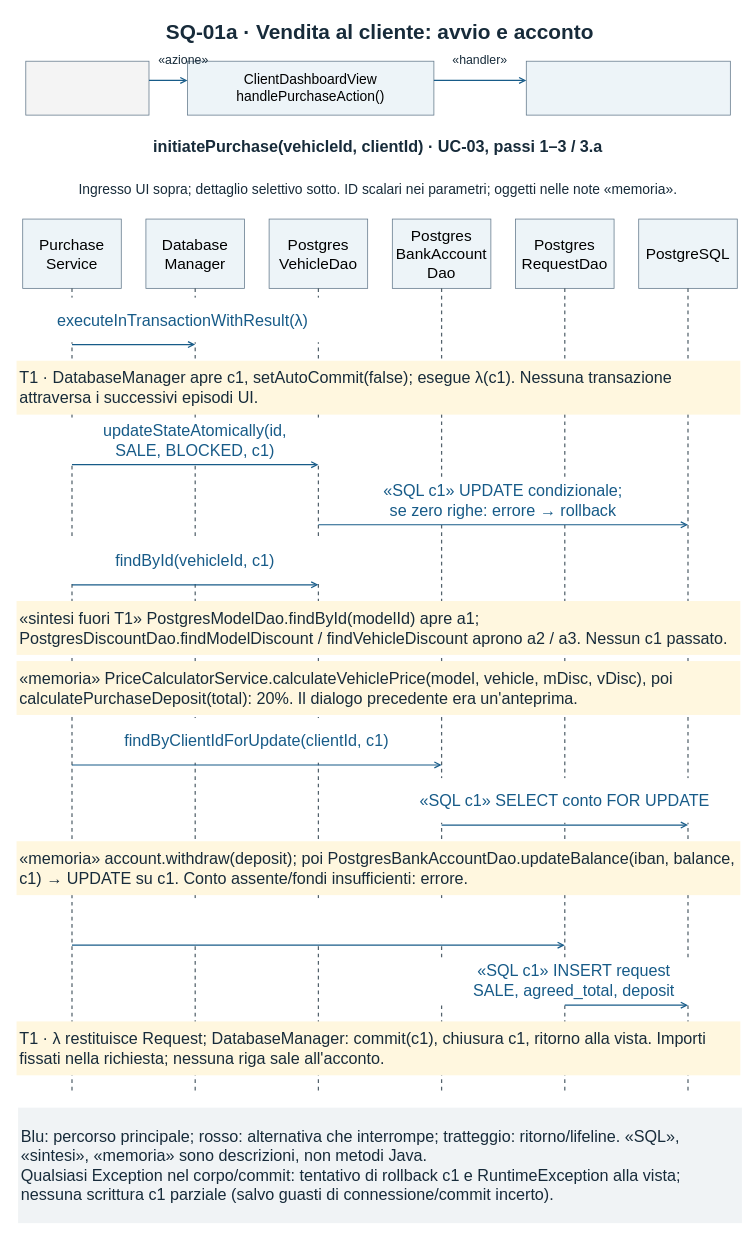
Image size: 756x1236. Some labels were removed from this diagram. Here are the shapes that lost their labels. From the top down, the centre of each, then its label:
the point at 87,87: Cliente: conferma
the point at 628,87: PurchaseService
the point at 318,920: save(Request.createNewSaleRequest( vehicleId, clientId, deposit, total), c1)
